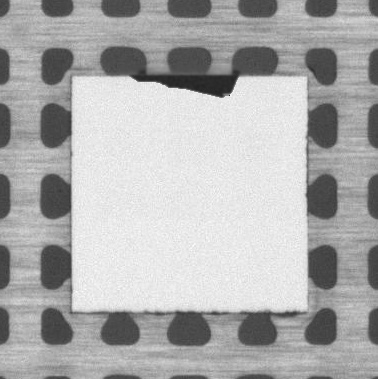DIE_BROKEN: (126, 71, 243, 97)
